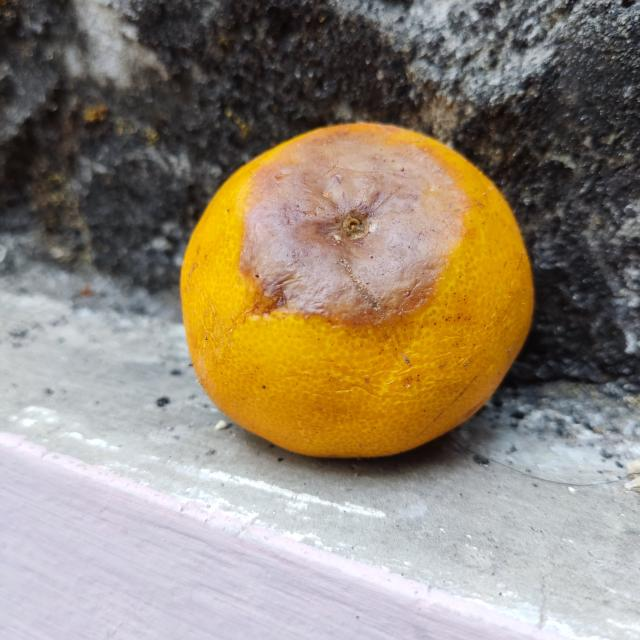orange: (182, 121, 534, 458)
